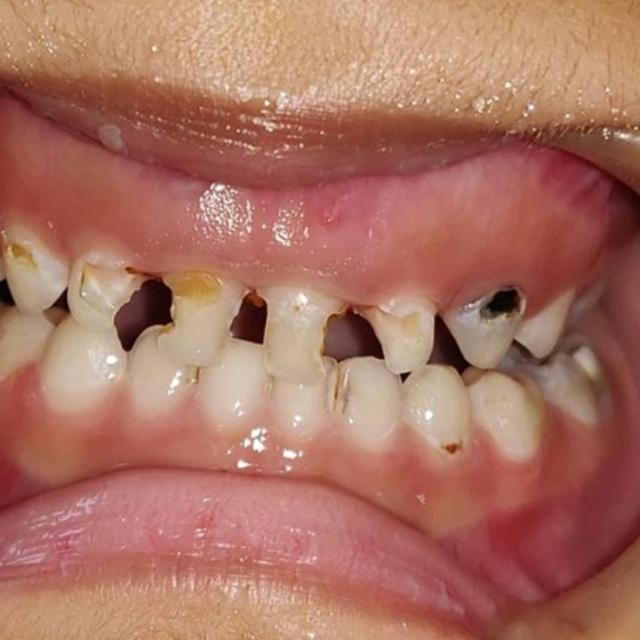caries: (100, 254, 188, 341), (321, 291, 390, 376), (465, 284, 533, 351)
